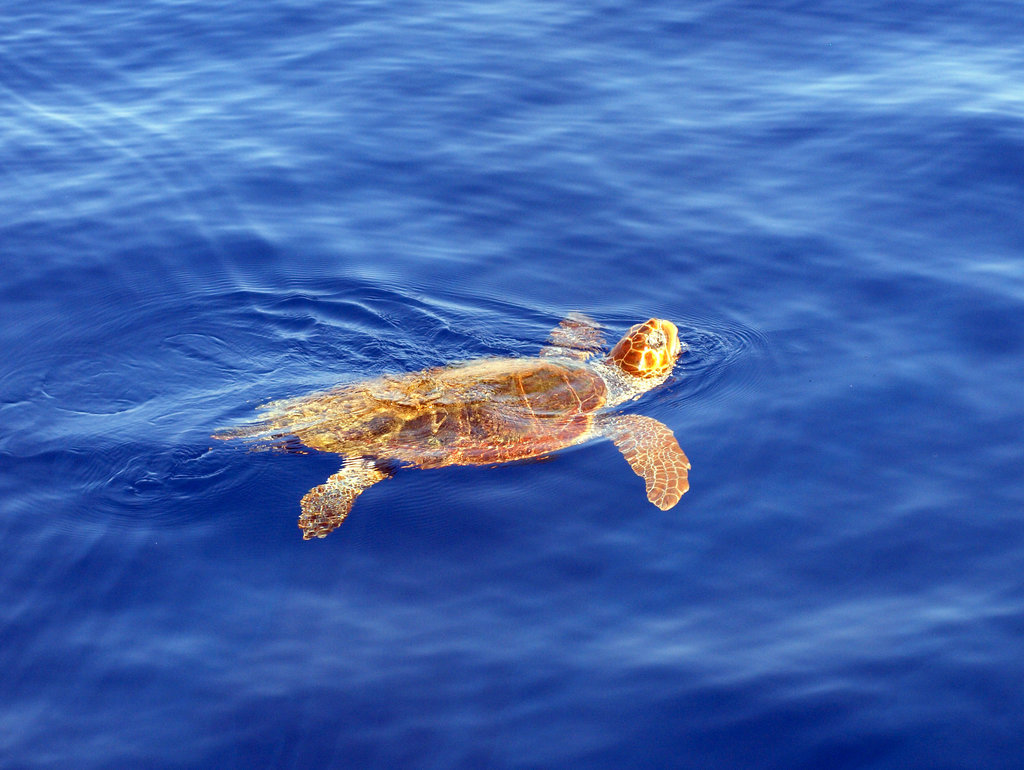Sea turtles: (197, 311, 696, 549)
